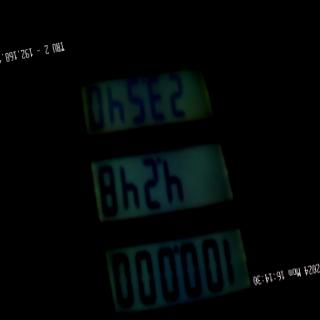screen: (61, 37, 264, 320)
